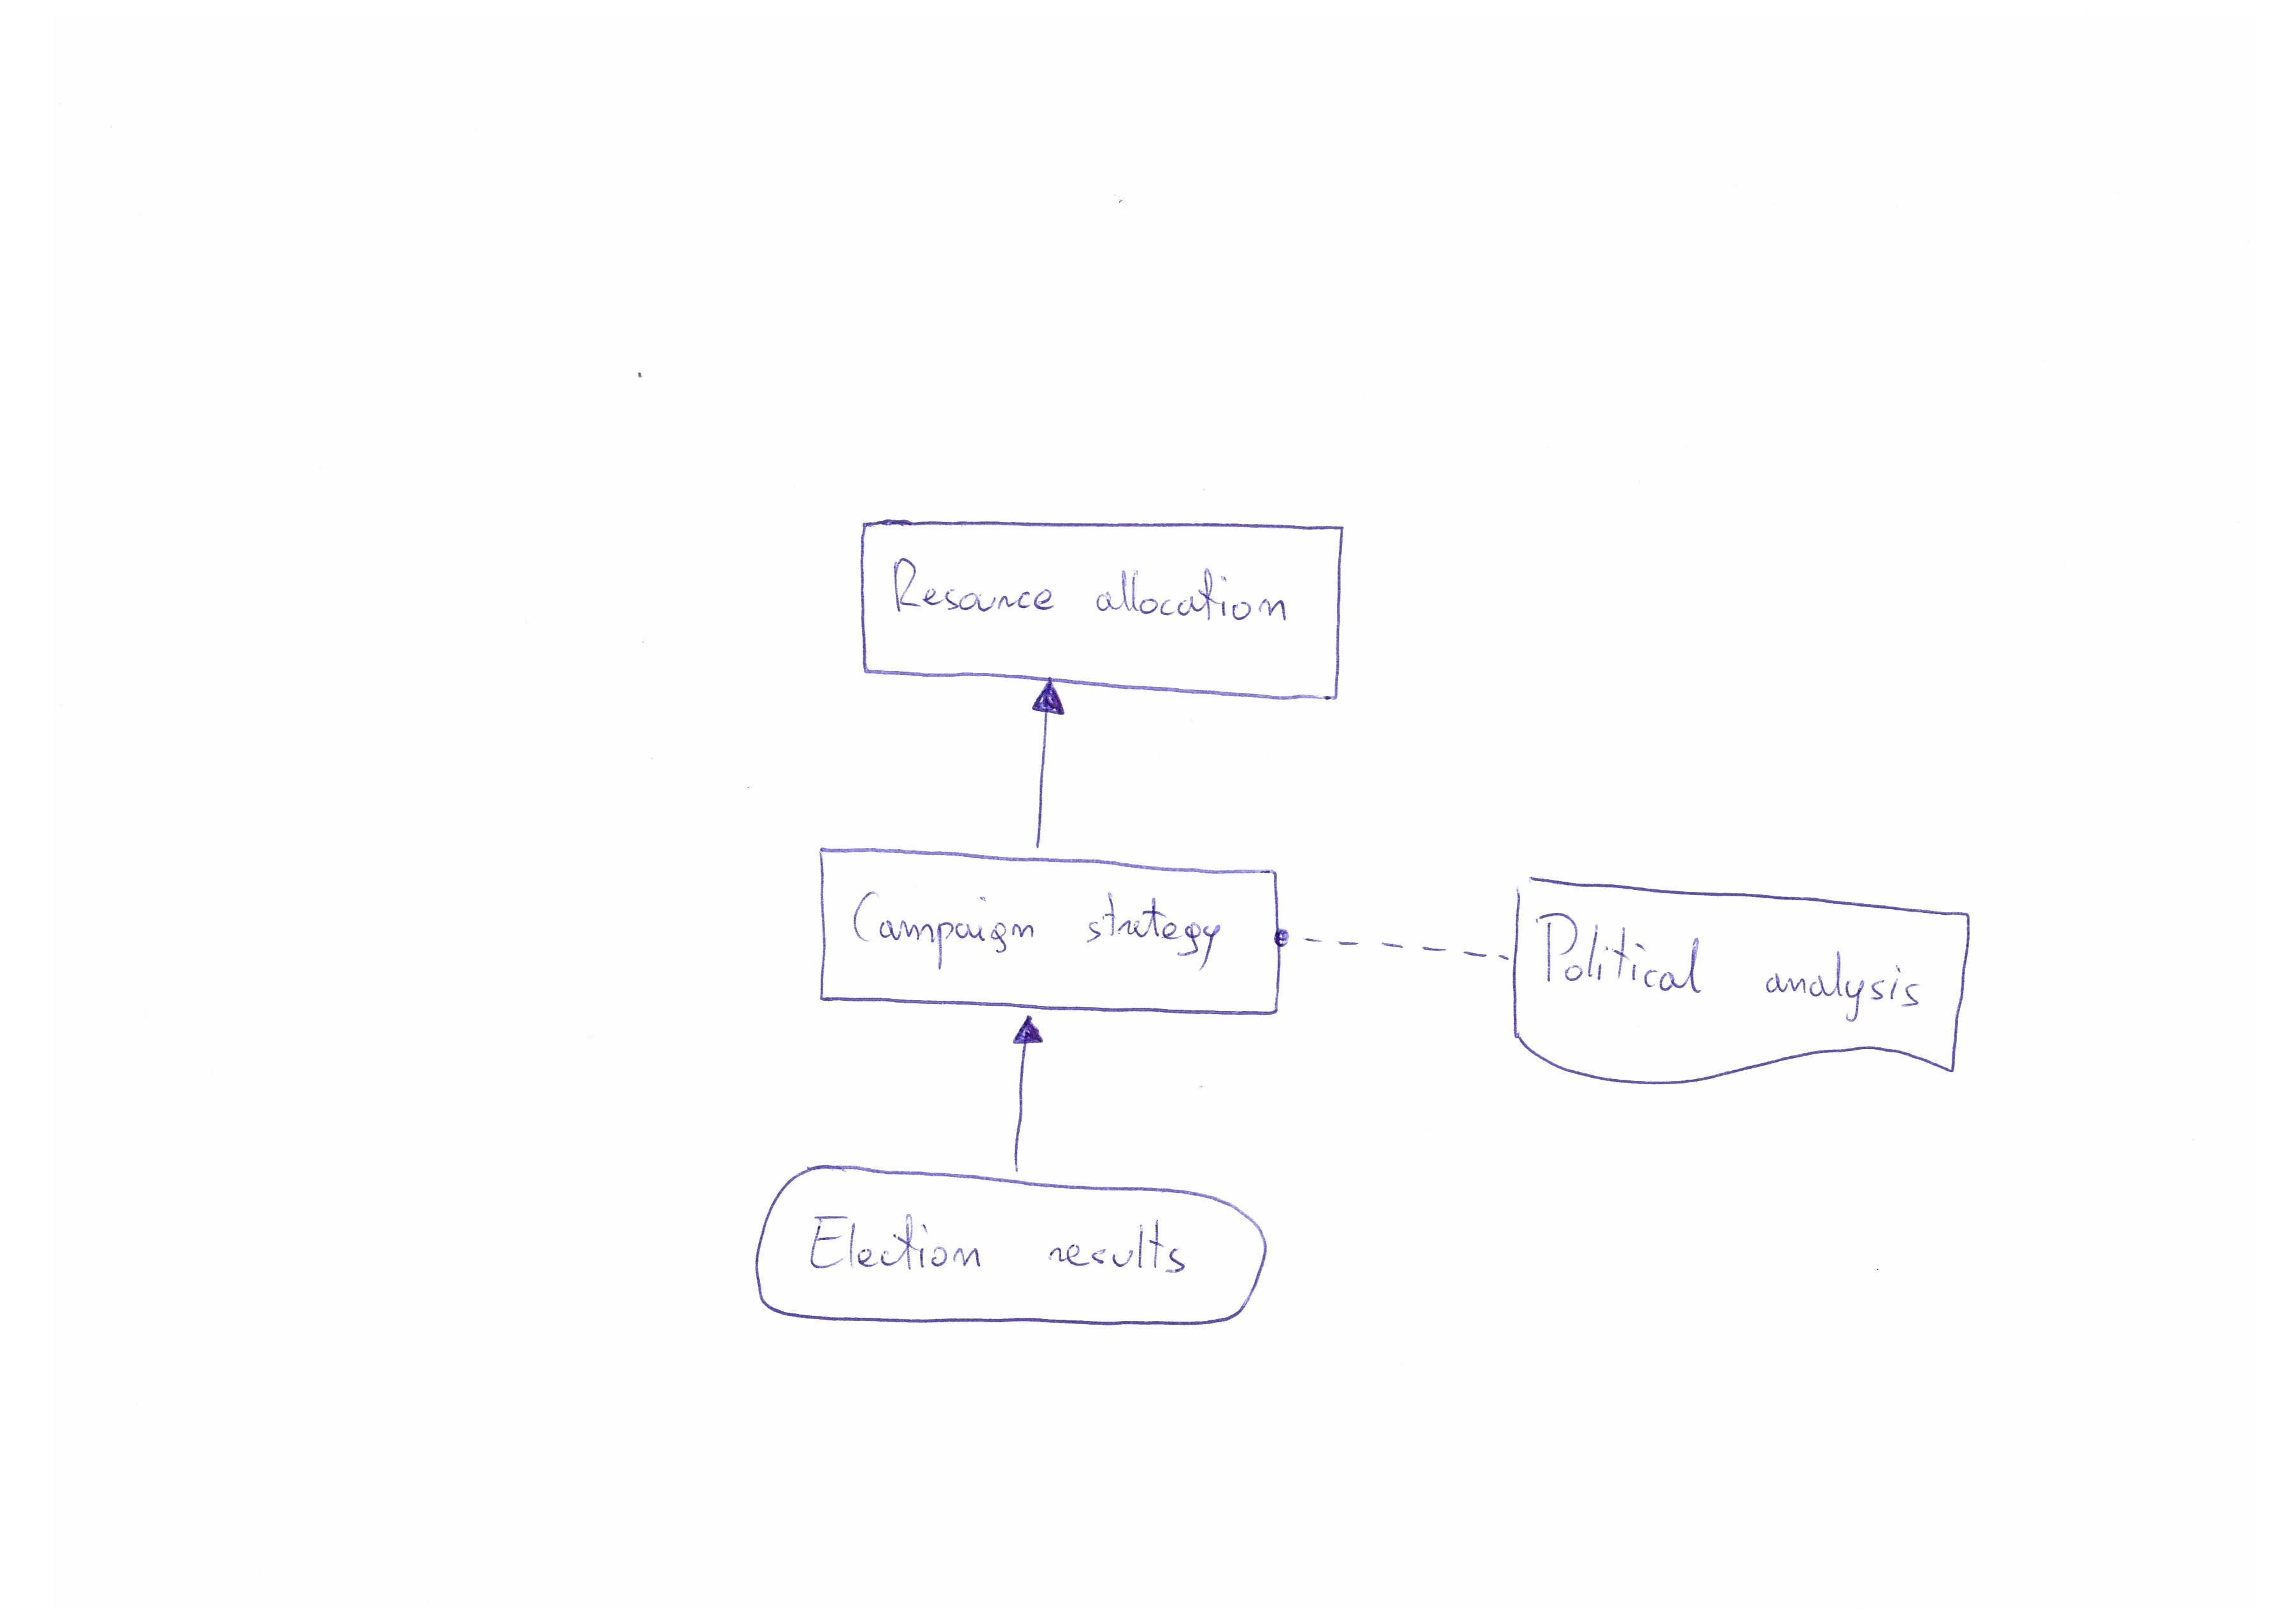arrow_authority_requirement: (1270, 917, 1509, 979)
arrow_information_requirement: (1017, 675, 1082, 847), (1000, 1011, 1049, 1176)
node_decision: (840, 503, 1353, 710), (810, 838, 1288, 1021)
node_input_data: (743, 1162, 1283, 1341)
node_knowledge_source: (1509, 858, 2000, 1120)
text: (1536, 910, 1931, 1028), (884, 543, 1309, 643), (845, 879, 1242, 984), (803, 1202, 1207, 1297)
